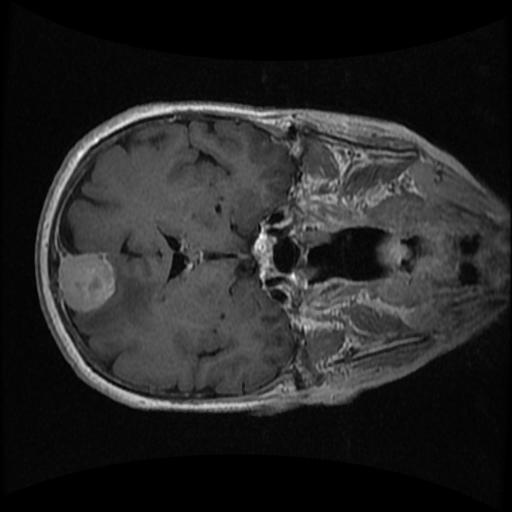meningioma: (59, 254, 114, 312)
